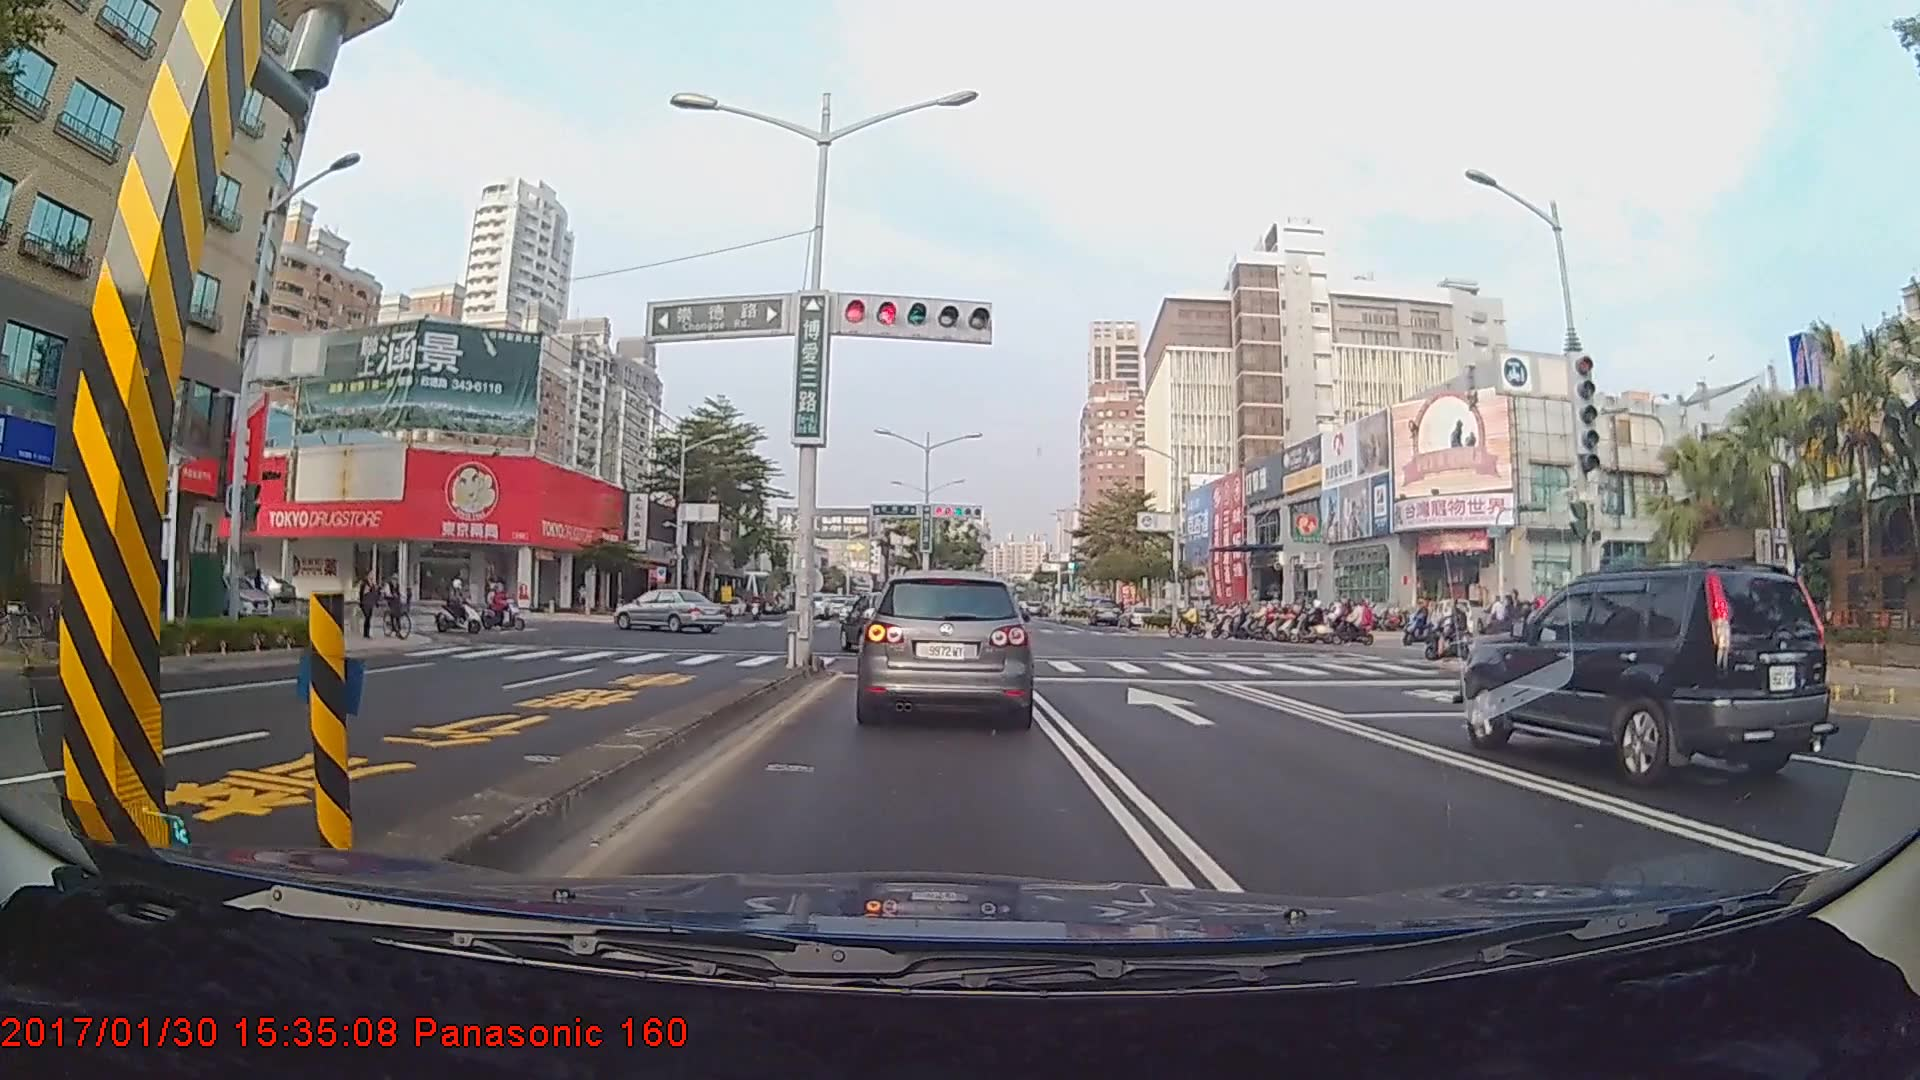pedestrian: (358, 566, 381, 644)
rider: (1427, 600, 1485, 662), (438, 576, 490, 638), (384, 566, 423, 638), (479, 577, 527, 631), (1334, 593, 1379, 646), (1304, 601, 1350, 643), (1173, 600, 1209, 638)
vehicle: (1454, 563, 1836, 791), (853, 563, 1032, 730), (613, 586, 726, 635), (1089, 597, 1122, 627)
